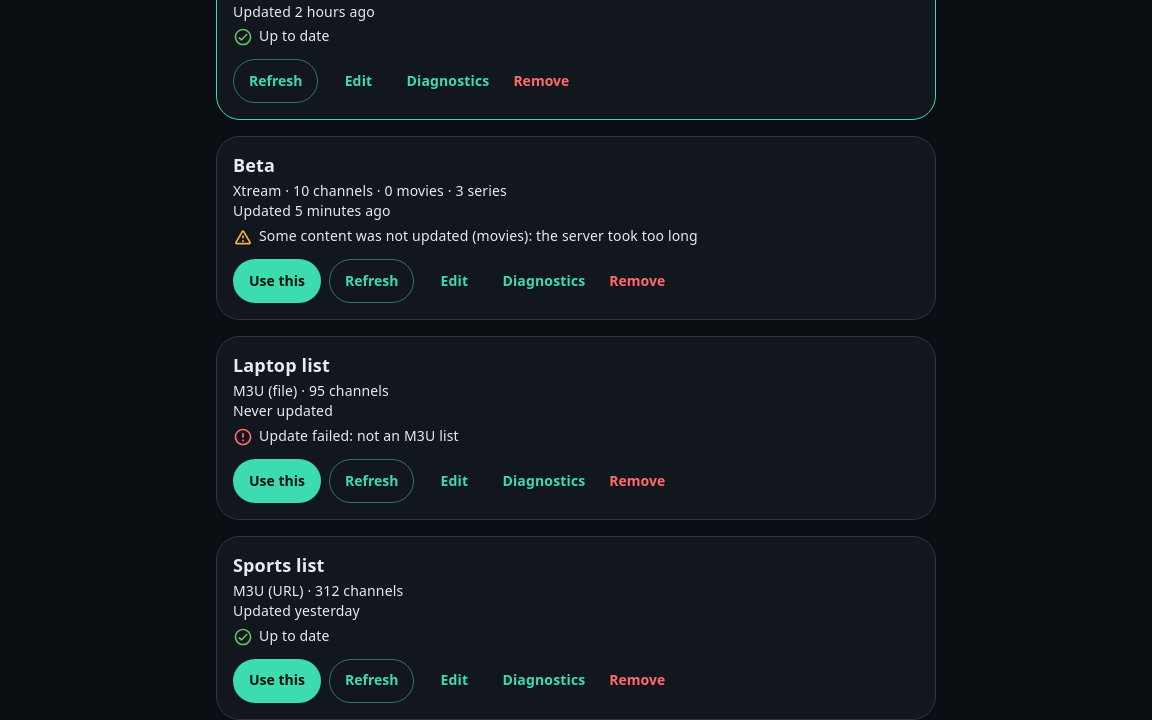
Test case: SRC-08 AC3 — remove › removing a non-active list deletes it, its data and its vault secret; active unchanged
(page scrolled)
What coordinates should you click on to do the following:
click the button "Remove" below "Updated yesterday"
I would click on:
 (637, 681)
Its box is [601, 659, 673, 703].
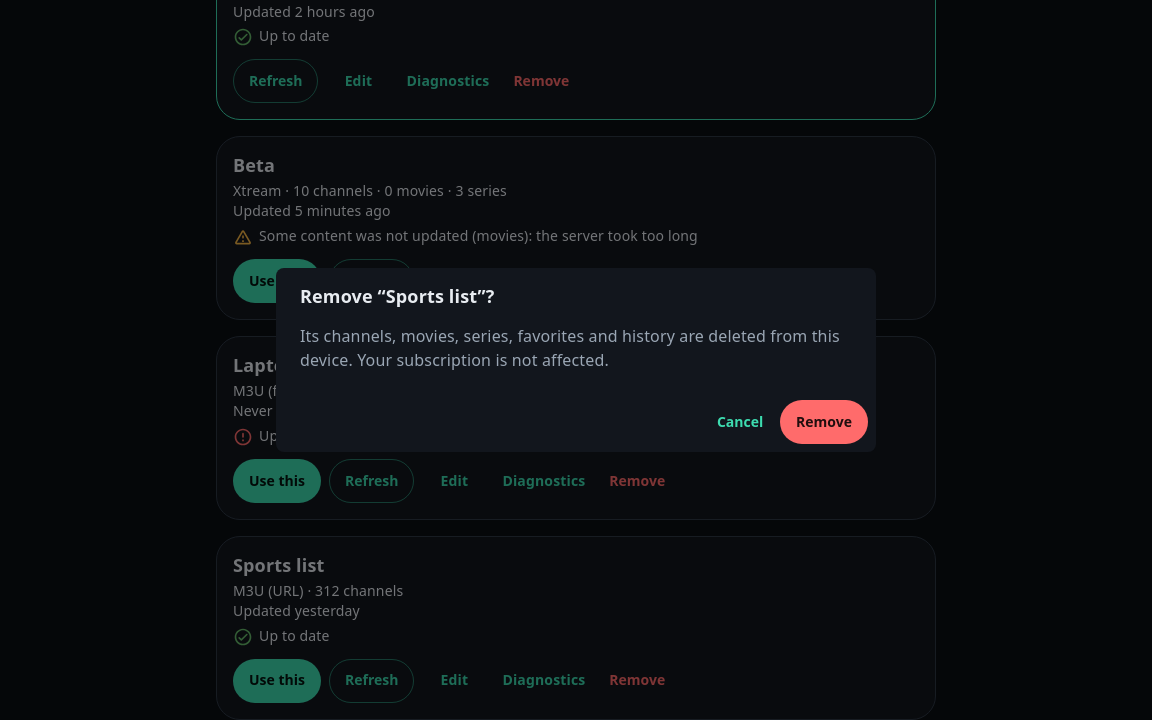
What coordinates should you click on to do the following:
click the button "Remove"
I would click on:
 (824, 422)
Its box is [780, 400, 868, 444].
(page scrolled)
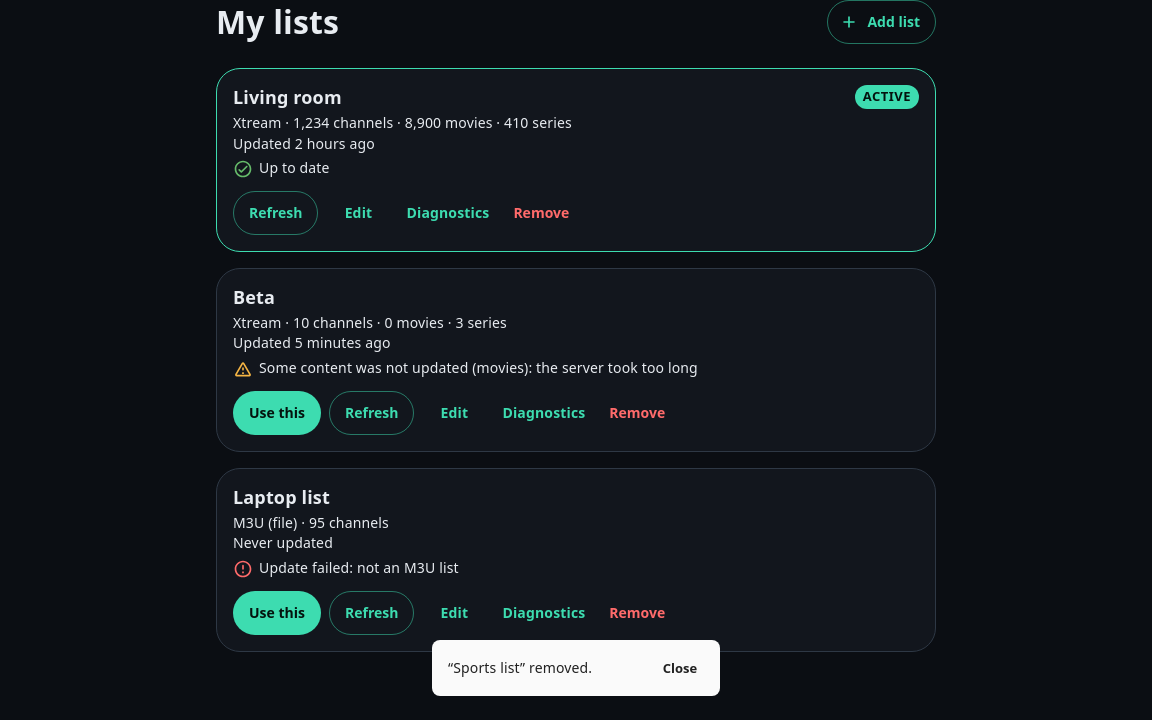
Expected: the element with test id "source-card-sports" is gone
